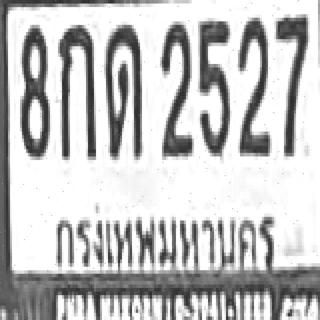A01: (58, 22, 94, 156)
A20: (104, 22, 140, 156)
N02: (236, 14, 268, 153), (160, 19, 192, 154)
N05: (198, 18, 228, 153)
N07: (274, 11, 306, 153)
N08: (18, 22, 48, 156)
P04: (45, 199, 281, 280)
